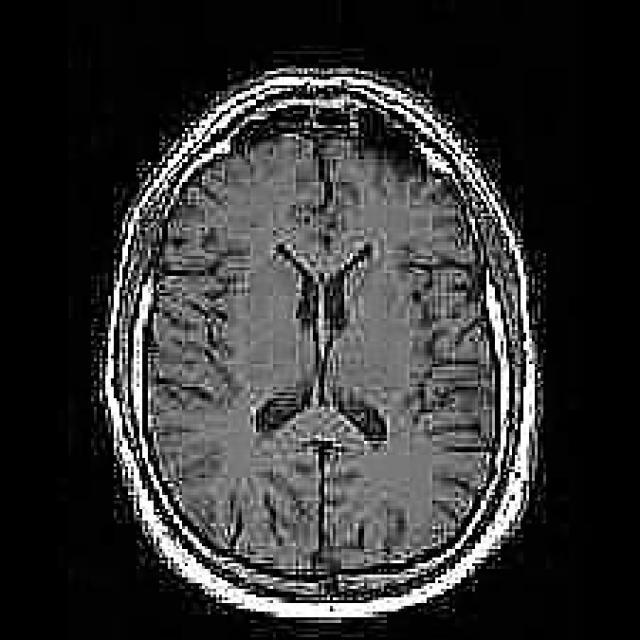notumor: (100, 68, 543, 634)
